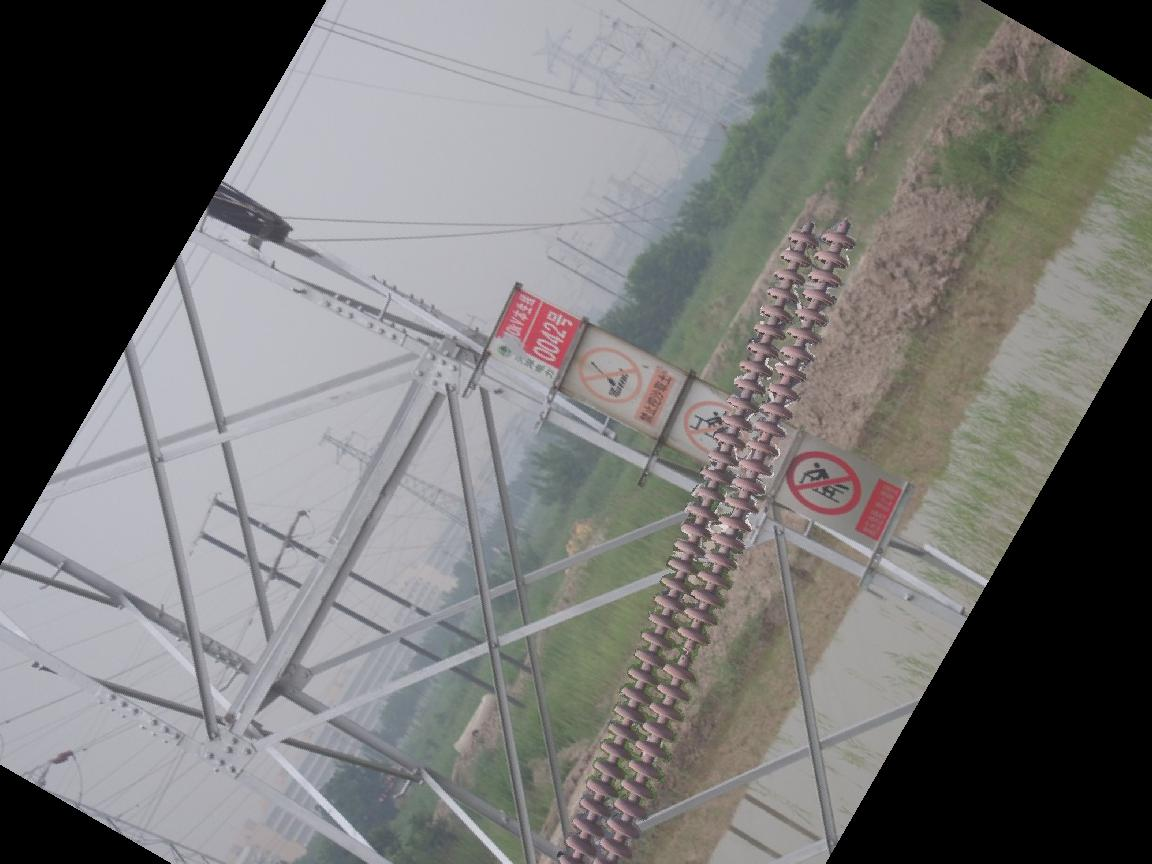insulator: (550, 218, 853, 864)
insulator_stringdrop: (661, 622, 711, 684)
